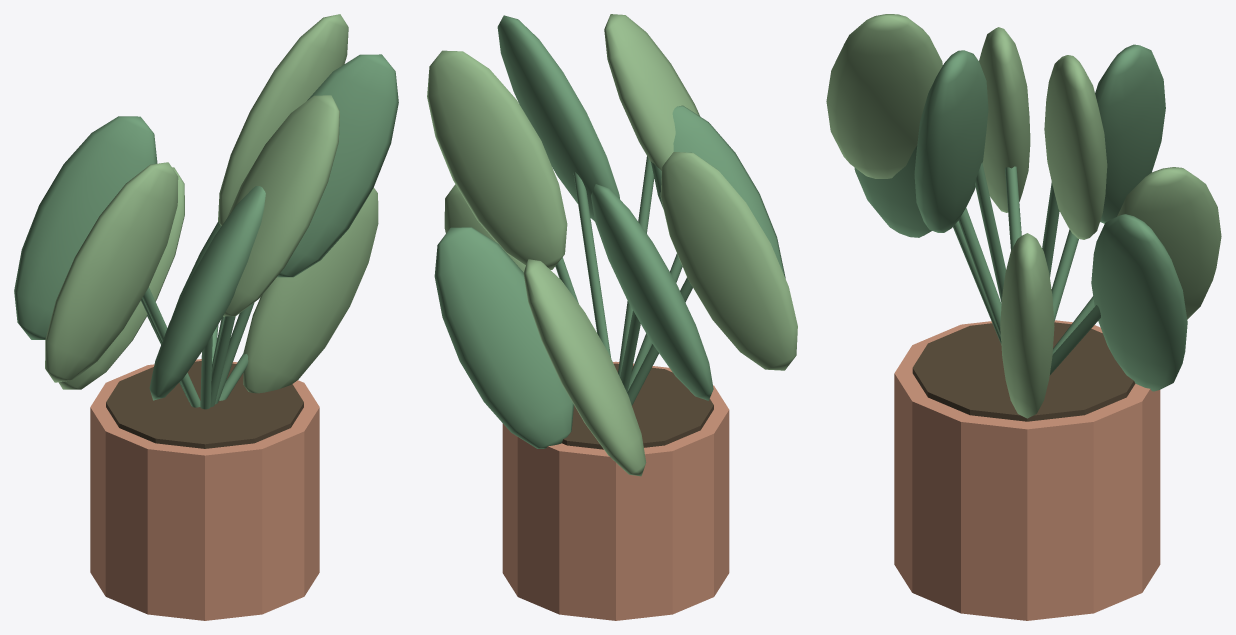
Rendered from plant.glb.
3 renders of one model, left to right at view 1: azimuth 30°, elevation 25°; view 2: azimuth 150°, elevation 25°; view 3: azimuth 270°, elevation 25°, orthographic. The views are drawn at different scales.
Visible parts, largest first — view 1: plant Light leaves, Clay planter, plant Plant leaves, Soil; view 2: plant Light leaves, plant Plant leaves, Clay planter, Soil; view 3: Clay planter, plant Light leaves, plant Plant leaves, Soil.
Part boxes in pixels (x1,y1,x2,y2): plant Light leaves: (45, 14, 378, 393); Clay planter: (90, 359, 319, 620); plant Plant leaves: (14, 54, 398, 409); Soil: (106, 361, 303, 448); plant Light leaves: (427, 14, 797, 476); plant Plant leaves: (434, 15, 785, 448); Clay planter: (502, 361, 729, 620); Soil: (562, 363, 713, 449); Clay planter: (894, 320, 1160, 620); plant Light leaves: (826, 14, 1221, 418); plant Plant leaves: (854, 44, 1187, 391); Soil: (912, 322, 1135, 421).
Bounding box in the file's own units: 0.7616 × 1.07 × 0.6541.
